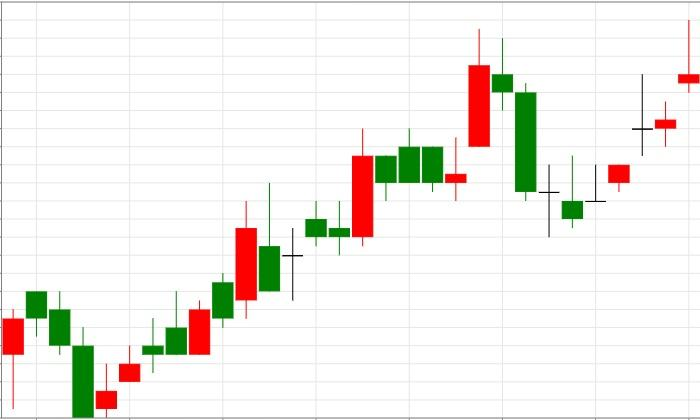evening_star_fall: (352, 28, 536, 247)
